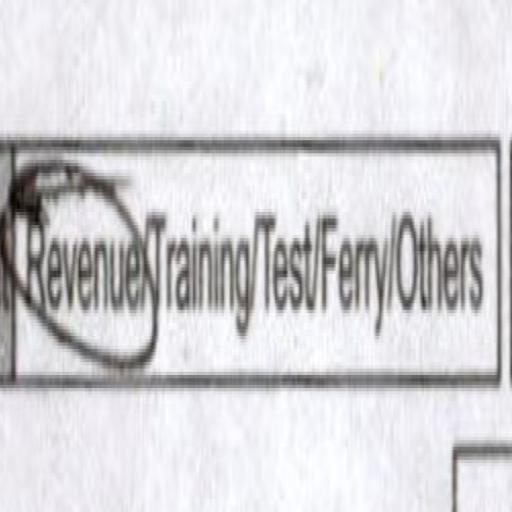check: (7, 94, 146, 424)
